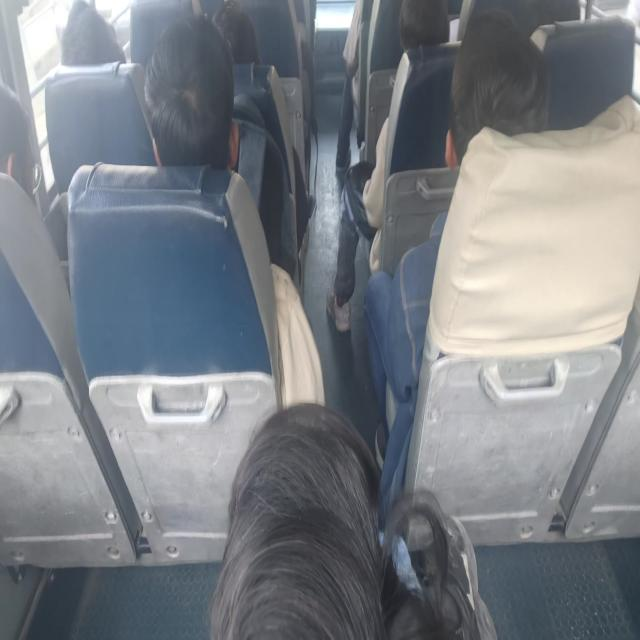person: (363, 8, 550, 525), (209, 401, 497, 638), (143, 12, 298, 283), (326, 0, 451, 332), (212, 2, 316, 250), (143, 11, 240, 171), (326, 115, 389, 332), (0, 79, 67, 262), (0, 80, 42, 205), (335, 0, 363, 175), (59, 0, 126, 66), (212, 1, 262, 65), (397, 0, 450, 51)
